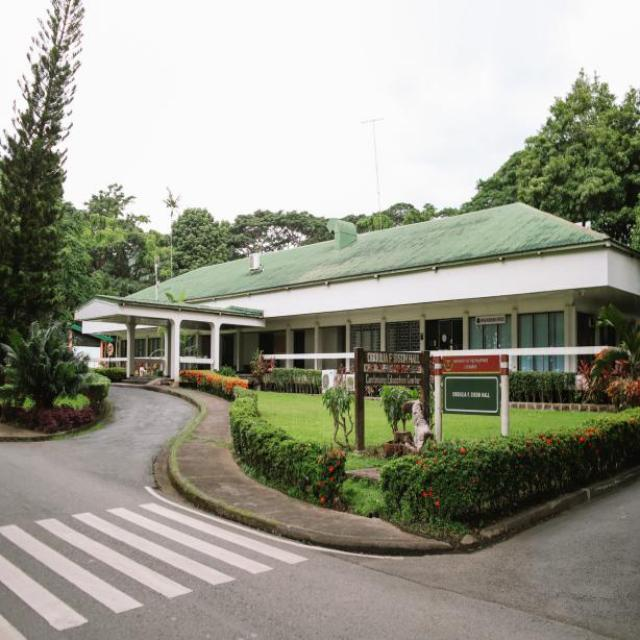pedestrian lane: (0, 503, 308, 639)
